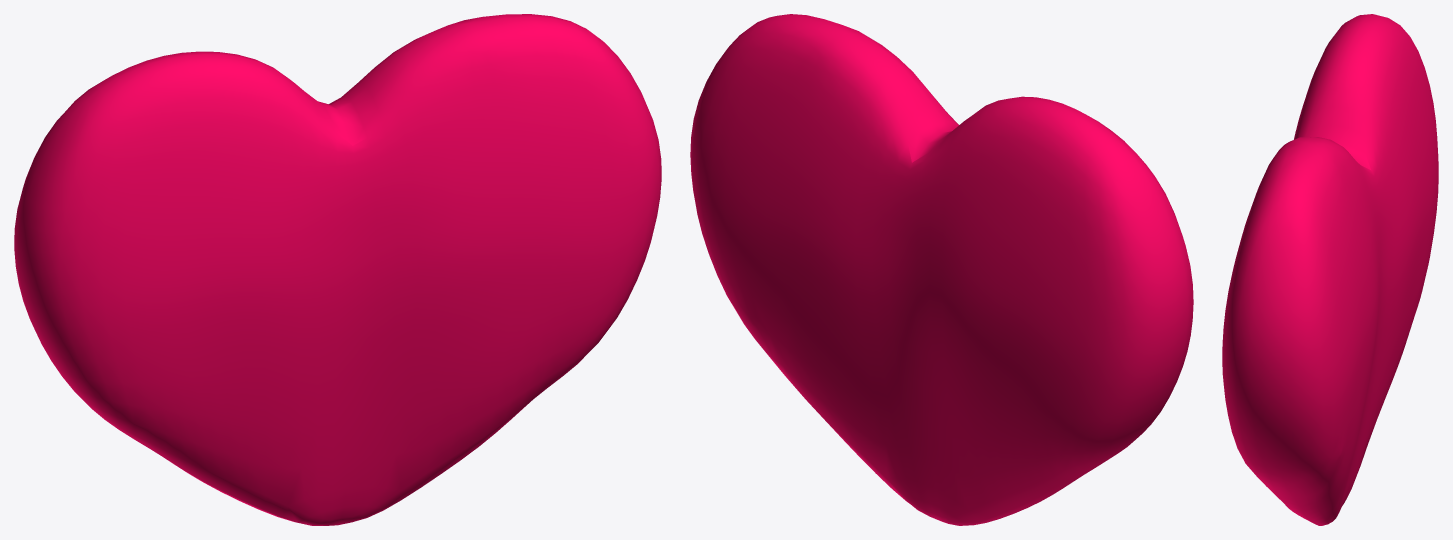
File: heart.fbx
3 views of the same model, side by side, from view 1: azimuth 30°, elevation 25°; view 2: azimuth 150°, elevation 25°; view 3: azimuth 270°, elevation 25° (orthographic). The views are drawn at different scales.
Visible parts, largest first — view 1: heart; view 2: heart; view 3: heart.
Boxes of the visible parts, x1,y1,x2,y2 form: heart: (14,14,661,525); heart: (690,14,1193,525); heart: (1222,14,1438,525).
Size of the model in its own units: 14.58 by 11.93 by 5.43.
